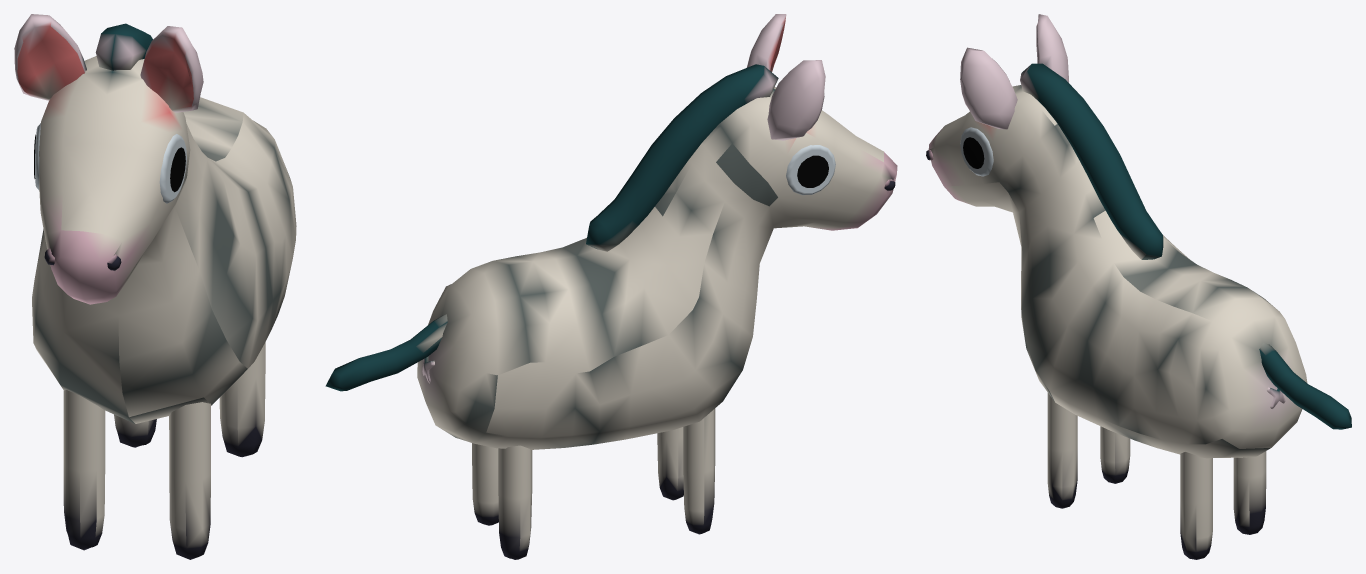
File: Zebra.glb
The picture shows the model from 3 angles, left to right: view 1: azimuth 30°, elevation 25°; view 2: azimuth 150°, elevation 25°; view 3: azimuth 270°, elevation 25°; orthographic projection. The views are drawn at different scales.
Parts seen in each view (by area): view 1: 178; view 2: 178; view 3: 178.
Boxes of the visible parts, x1=… form: 178: x1=14, y1=14, x2=296, y2=559; 178: x1=325, y1=14, x2=897, y2=559; 178: x1=926, y1=14, x2=1351, y2=559.
Size of the model in its own units: 1.01 by 1.24 by 1.11.
